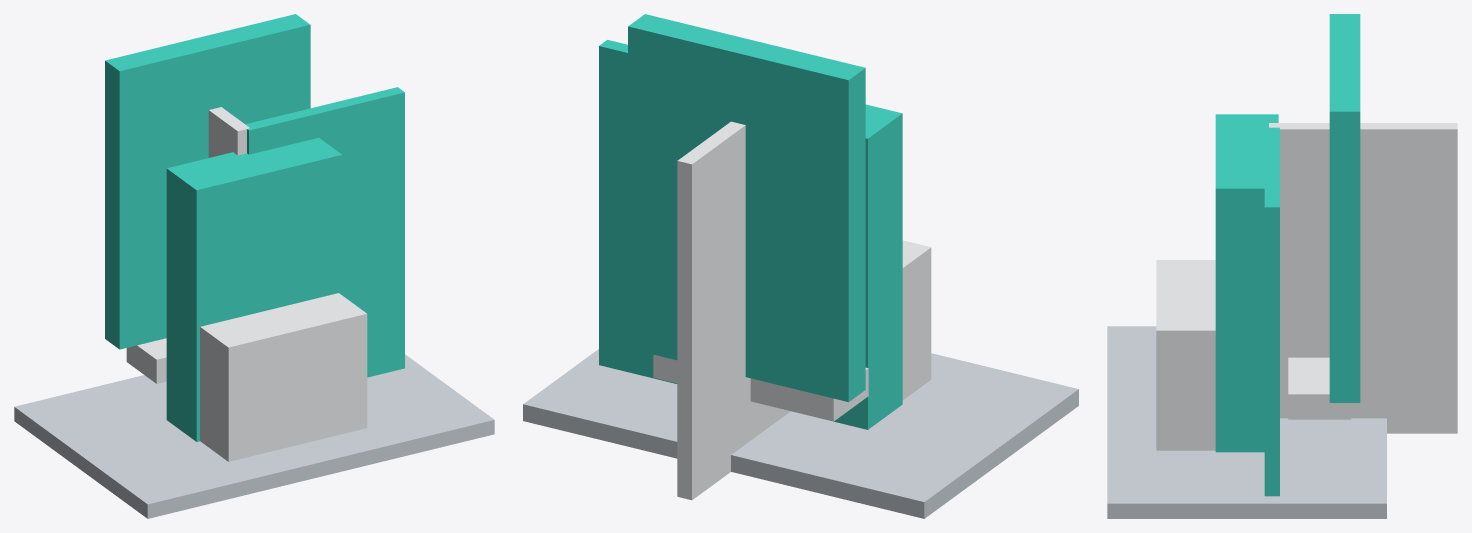
3 renders of one model, left to right at view 1: azimuth 30°, elevation 25°; view 2: azimuth 150°, elevation 25°; view 3: azimuth 270°, elevation 25°, orthographic. The views are drawn at different scales.
Visible parts, largest first — view 1: Exhibition Booth Concept; view 2: Exhibition Booth Concept; view 3: Exhibition Booth Concept.
Part boxes in pixels (bbox=[...]): Exhibition Booth Concept: bbox=[14, 14, 494, 518]; Exhibition Booth Concept: bbox=[523, 14, 1078, 518]; Exhibition Booth Concept: bbox=[1107, 14, 1457, 518].
Size of the model in its own units: 3 by 2.9 by 2.5.
